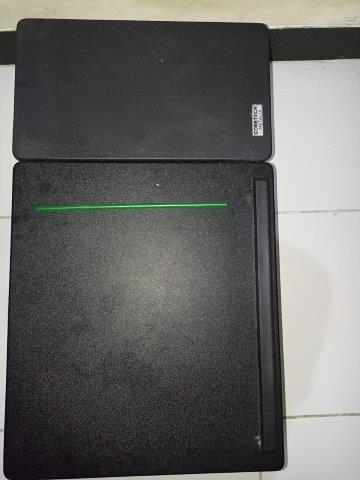sedotan: (36, 201, 227, 212)
